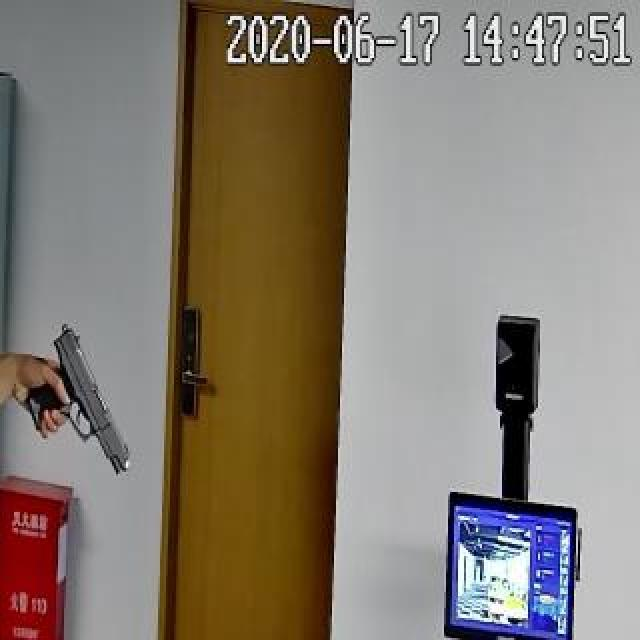Guns: (5, 314, 153, 476)
